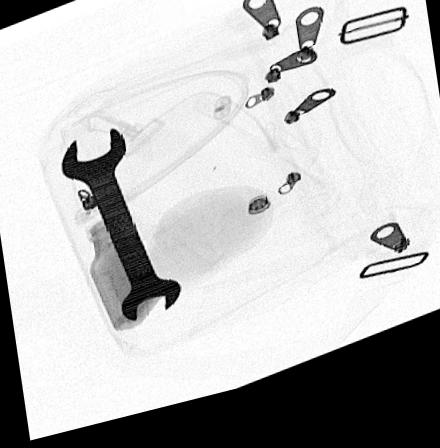Wrench: (61, 131, 181, 328)
